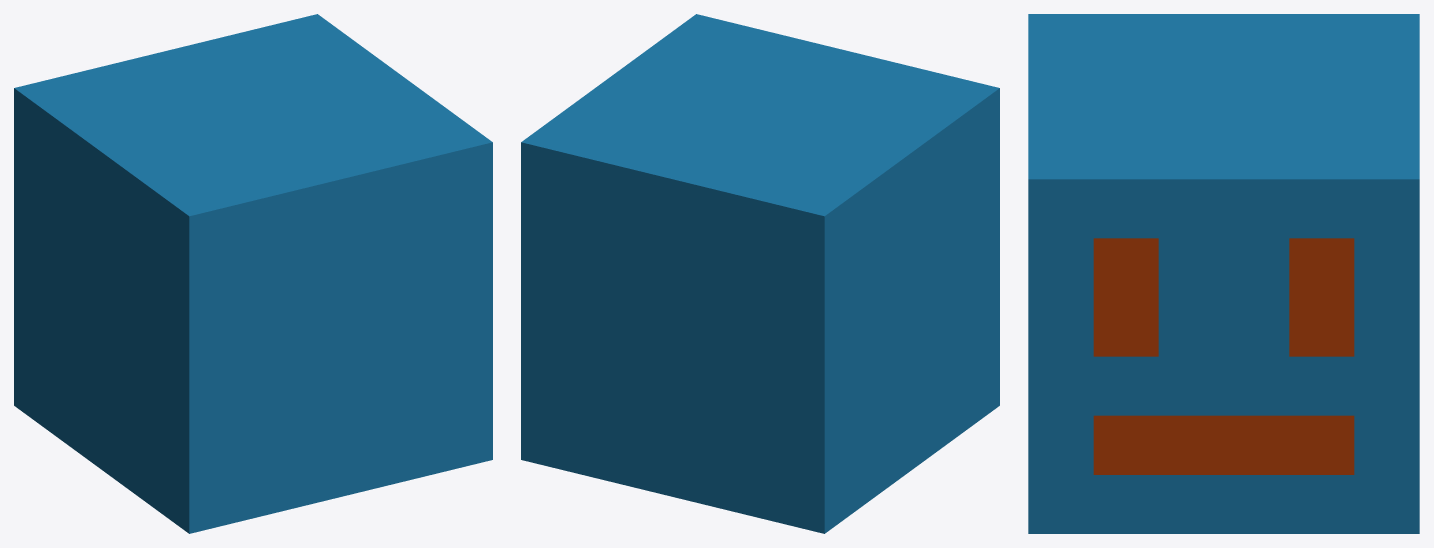
The model's file is head.fbx.
3 renders of one model, left to right at view 1: azimuth 30°, elevation 25°; view 2: azimuth 150°, elevation 25°; view 3: azimuth 270°, elevation 25°, orthographic. The views are drawn at different scales.
Parts seen in each view (by area): view 1: model; view 2: model; view 3: model.
Boxes of the visible parts, x1=… form: model: x1=14, y1=14, x2=492, y2=533; model: x1=521, y1=14, x2=999, y2=533; model: x1=1028, y1=14, x2=1419, y2=533.
Size of the model in its own units: 6 by 6 by 6.
